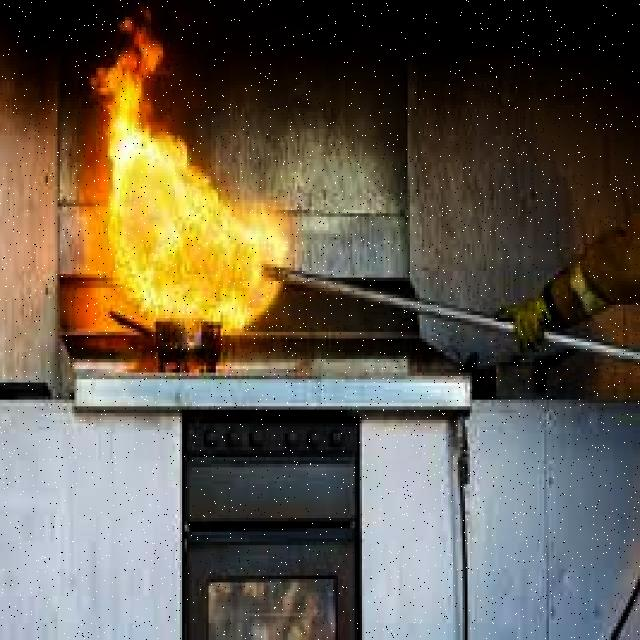fire: (95, 13, 295, 349)
